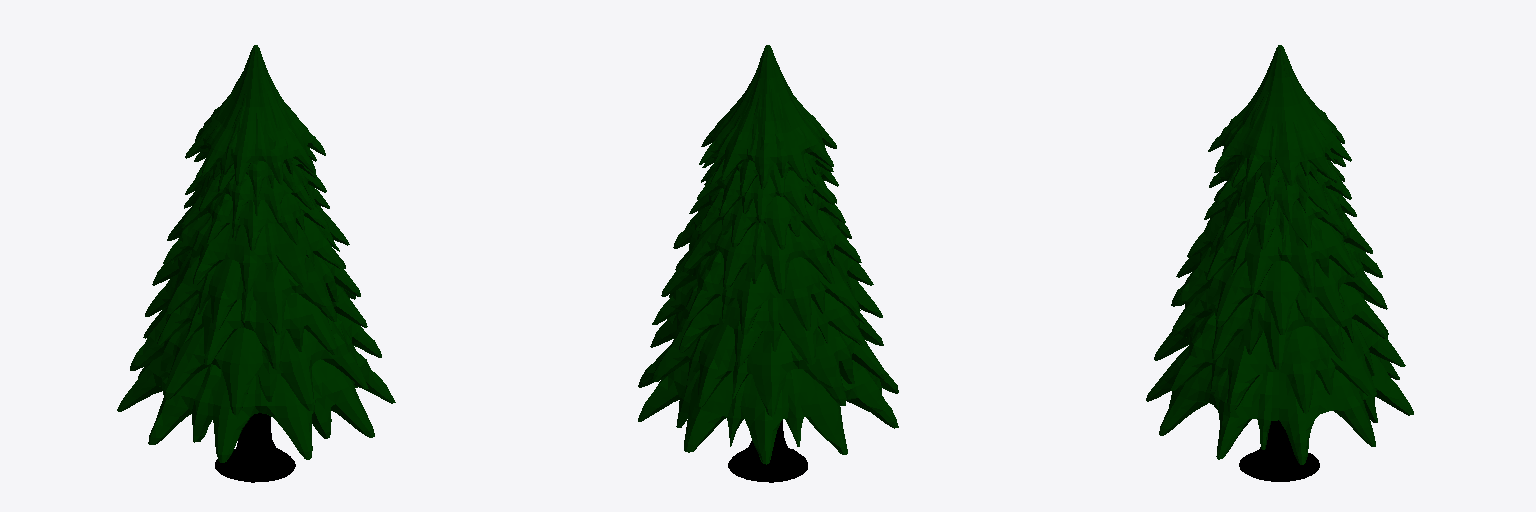
Rendered from tree.obj.
3 views of the same model, side by side, from view 1: azimuth 30°, elevation 25°; view 2: azimuth 150°, elevation 25°; view 3: azimuth 270°, elevation 25° (orthographic).
Visible parts, largest first — view 1: TreeCartoon-obj; view 2: TreeCartoon-obj; view 3: TreeCartoon-obj.
Part boxes in pixels (left/top/right/bottom): TreeCartoon-obj: left=117, top=45, right=395, bottom=482; TreeCartoon-obj: left=638, top=45, right=898, bottom=482; TreeCartoon-obj: left=1146, top=45, right=1413, bottom=481.
Size of the model in its own units: 6.11 by 10.39 by 5.99.